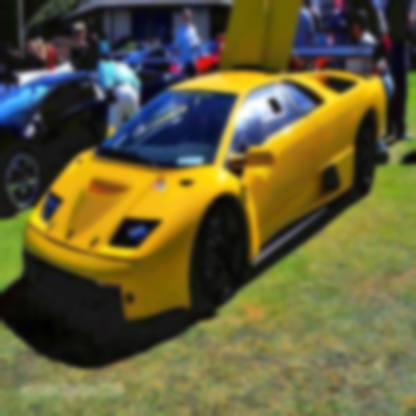Vehicle: (20, 65, 388, 332)
